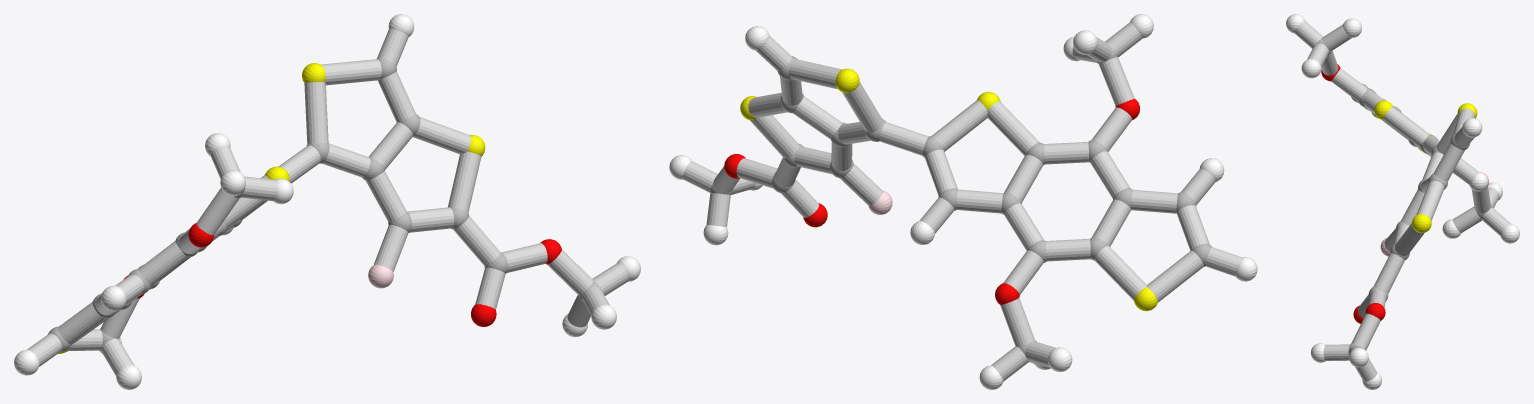
Rendered from color.glb.
3 renders of one model, left to right at view 1: azimuth 30°, elevation 25°; view 2: azimuth 150°, elevation 25°; view 3: azimuth 270°, elevation 25°, orthographic. The views are drawn at different scales.
Visible parts, largest first — view 1: grp15205, grp8689, grp1, grp13395, grp7241; view 2: grp15205, grp8689, grp1, grp7241, grp13395; view 3: grp15205, grp8689, grp1, grp7241, grp13395.
Boxes of the visible parts, bbox=[...] form: grp15205: bbox=[27, 28, 628, 375]; grp8689: bbox=[14, 14, 640, 389]; grp1: bbox=[48, 58, 600, 351]; grp13395: bbox=[123, 223, 561, 326]; grp7241: bbox=[47, 63, 485, 353]; grp15205: bbox=[682, 22, 1241, 381]; grp8689: bbox=[669, 14, 1257, 389]; grp1: bbox=[710, 49, 1211, 361]; grp7241: bbox=[740, 68, 1157, 311]; grp13395: bbox=[724, 98, 1139, 304]; grp15205: bbox=[1294, 21, 1510, 381]; grp8689: bbox=[1286, 14, 1519, 389]; grp1: bbox=[1316, 38, 1492, 350]; grp7241: bbox=[1374, 100, 1477, 232]; grp13395: bbox=[1321, 64, 1488, 323].
Bounding box in the file's own units: 16.53 × 7.74 × 7.1.
